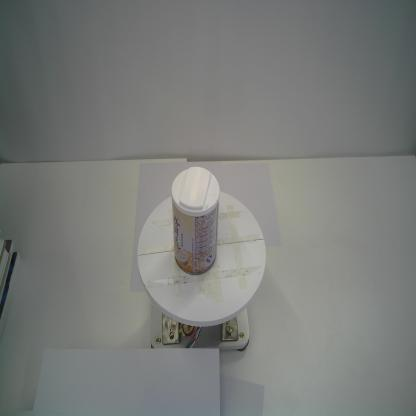Canned Food: (170, 165, 221, 277)
